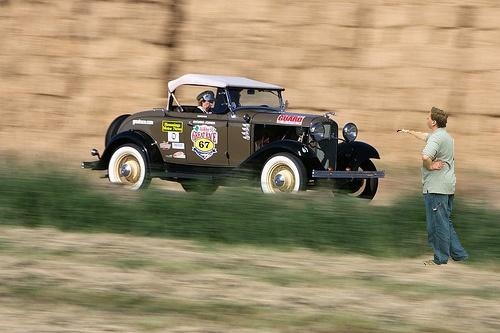tampered: (398, 108, 468, 265)
